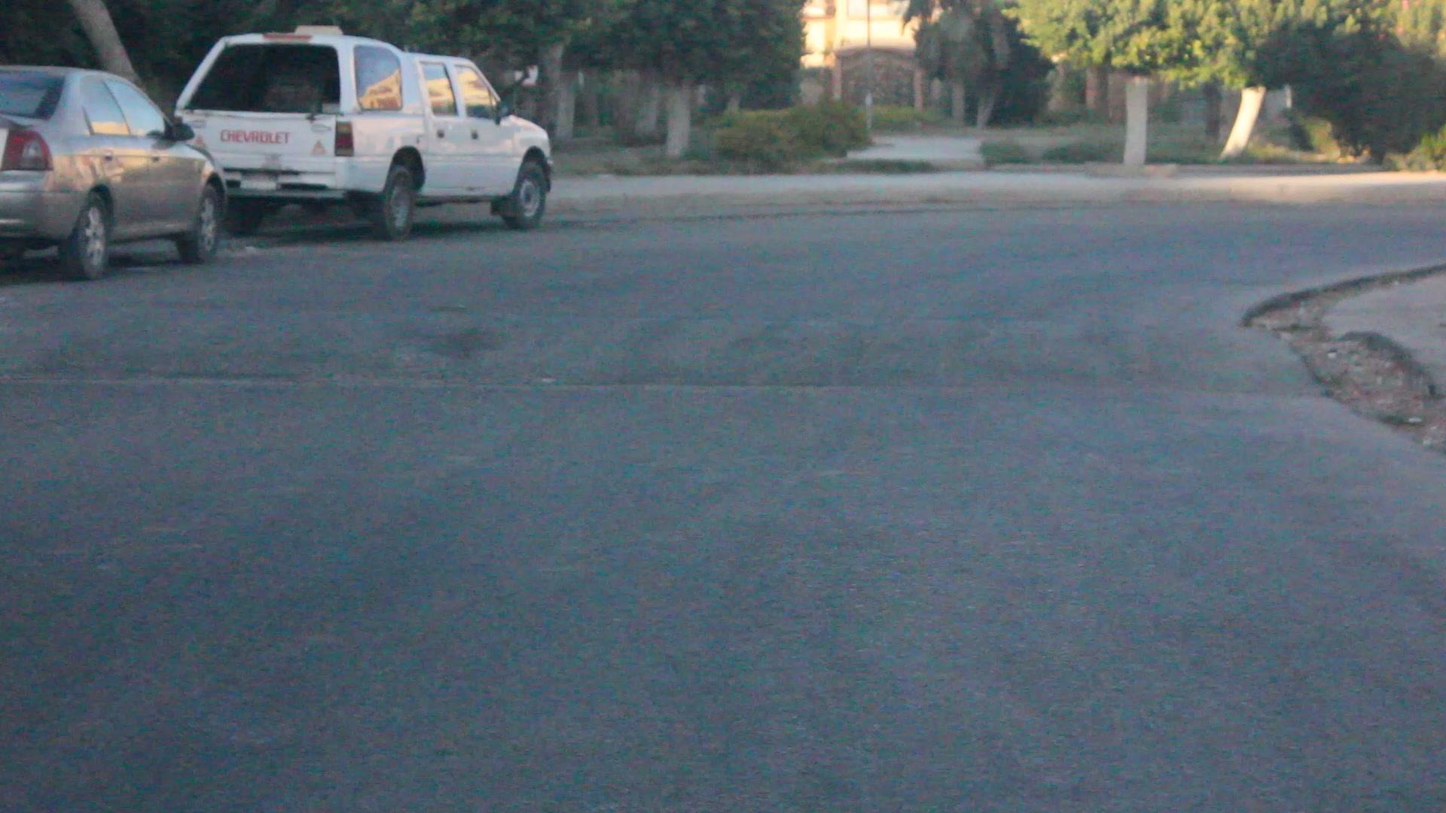Bump: (13, 275, 1314, 406)
Pothole: (1229, 280, 1446, 476)
